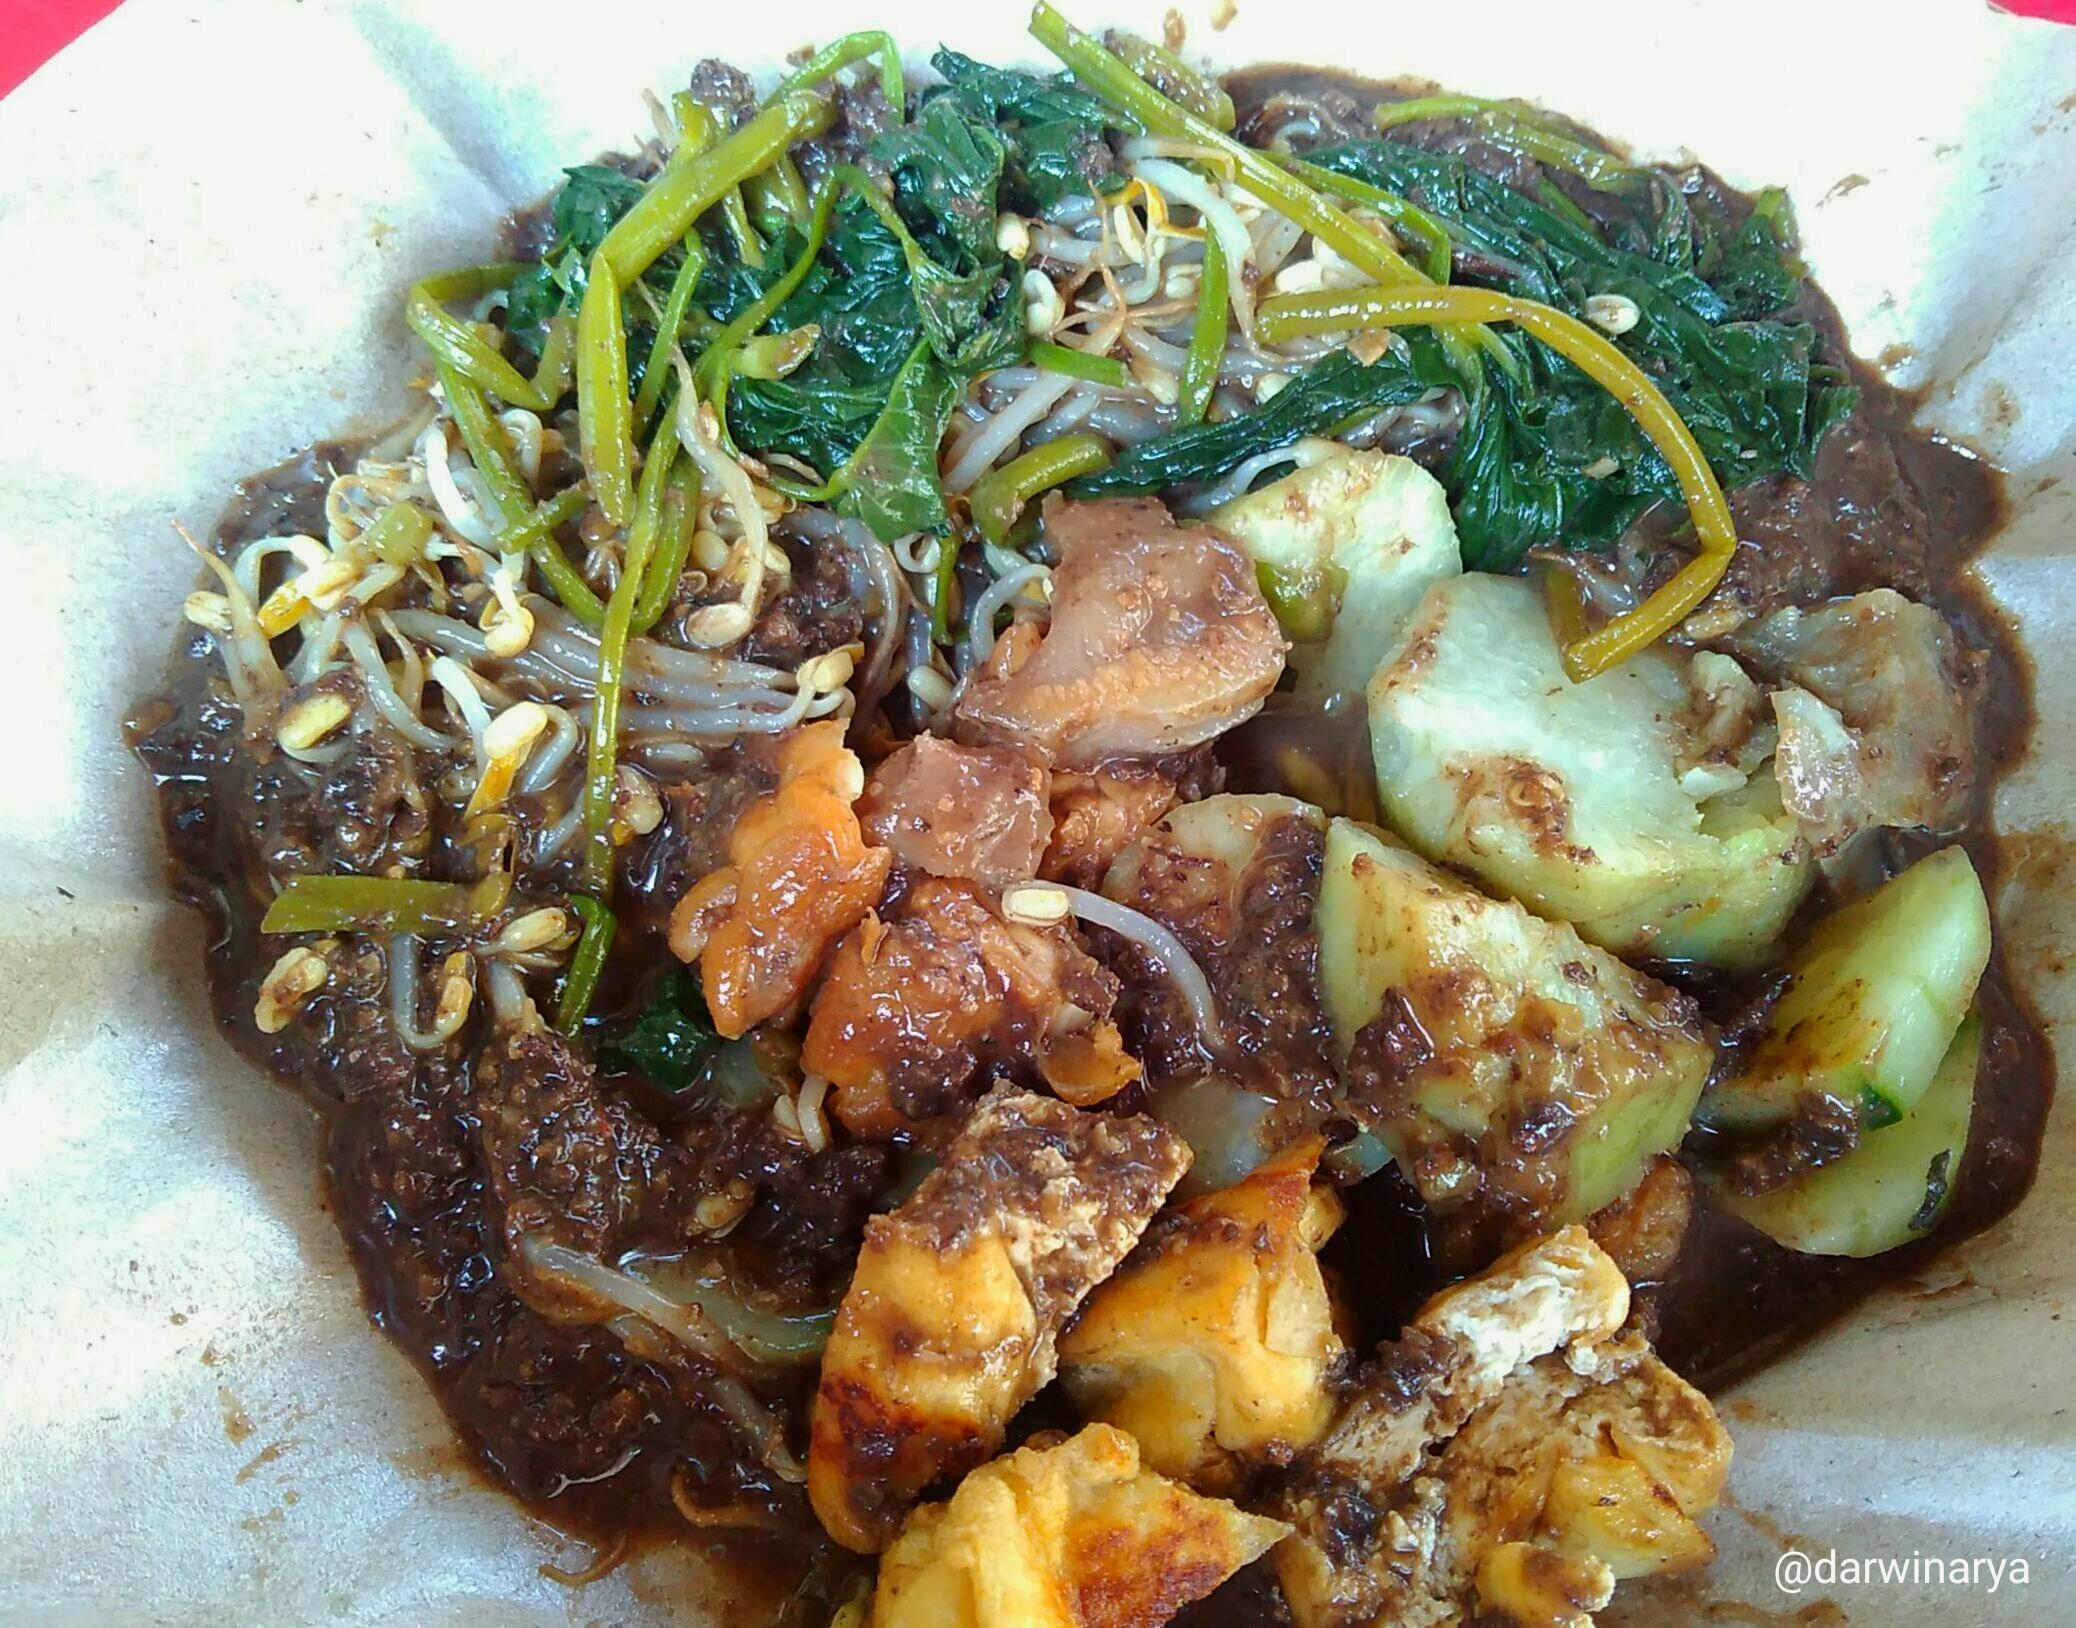rujak_cingur: (126, 17, 2066, 1628)
